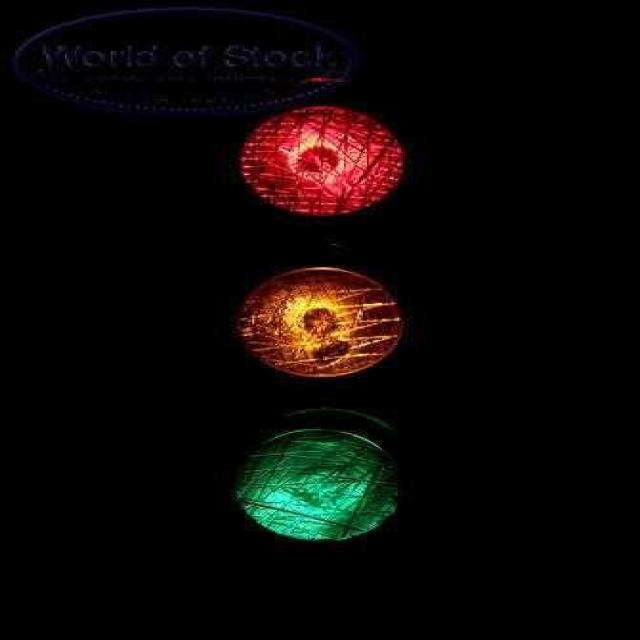Traffic Light -Green-: (151, 404, 474, 578)
Traffic Light -Red-: (165, 84, 475, 222)
Traffic Light -Yellow-: (155, 228, 476, 390)
